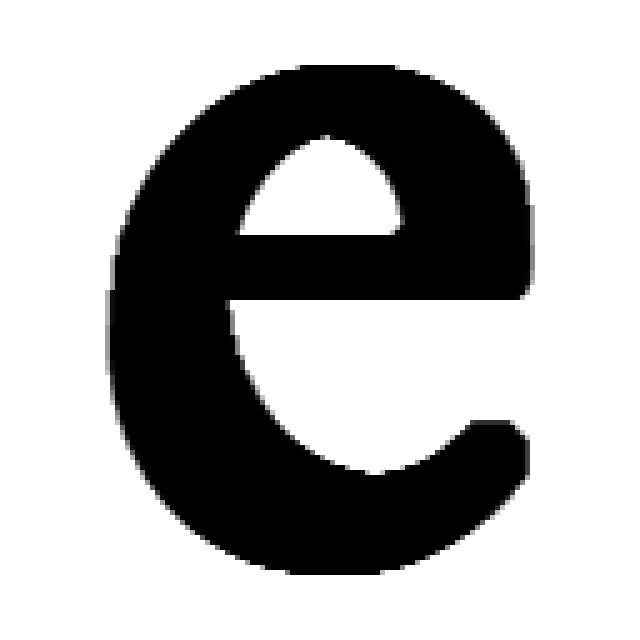E: (110, 65, 535, 575)
